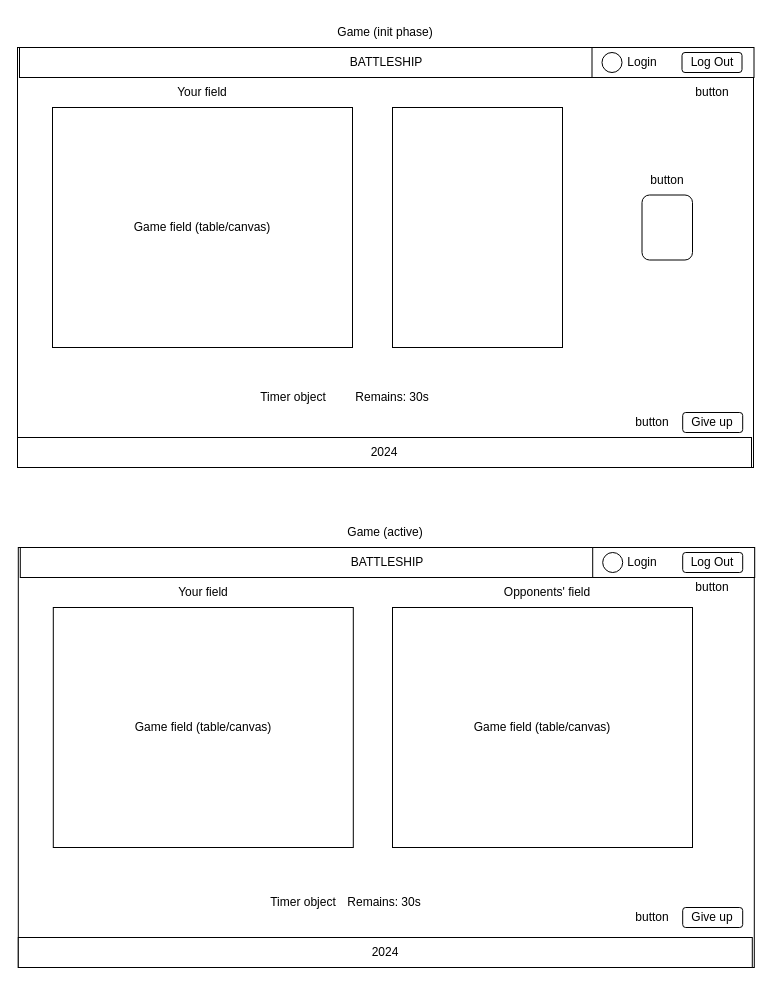
Image size: 773x985. Some labels were removed from this diagram. The centre of each missing label's shape, as x and y in pixels:
"Dragable ships" belongs at point 477,227.
"READY" belongs at point 666,227.
